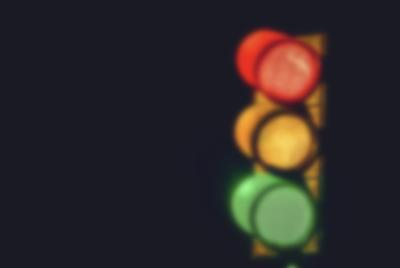International Road Signal Light: (224, 27, 328, 266)
